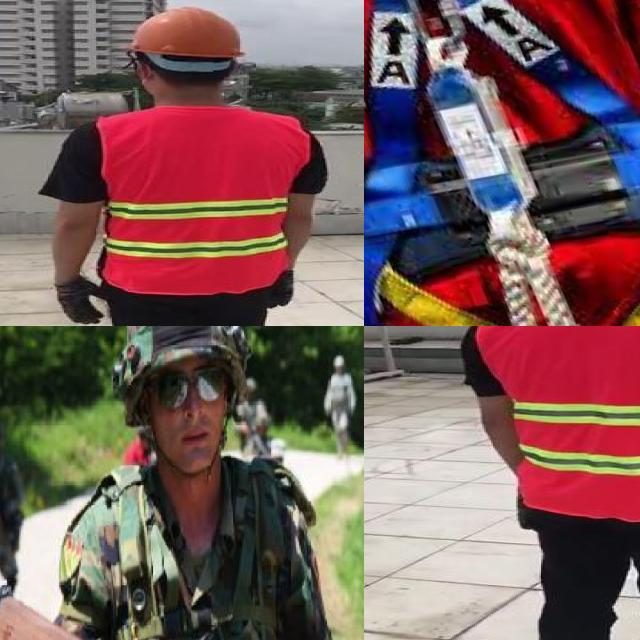Harness: (364, 0, 640, 326)
face_nomask: (148, 362, 228, 458)
glasses: (145, 364, 227, 413)
hand_glove: (48, 280, 105, 323), (265, 270, 295, 307)
head_helmet: (106, 326, 249, 382), (125, 8, 248, 60)
person: (35, 6, 341, 326), (70, 326, 358, 640), (450, 326, 640, 640), (323, 347, 354, 469)
vest: (98, 110, 304, 293), (477, 326, 640, 520)
